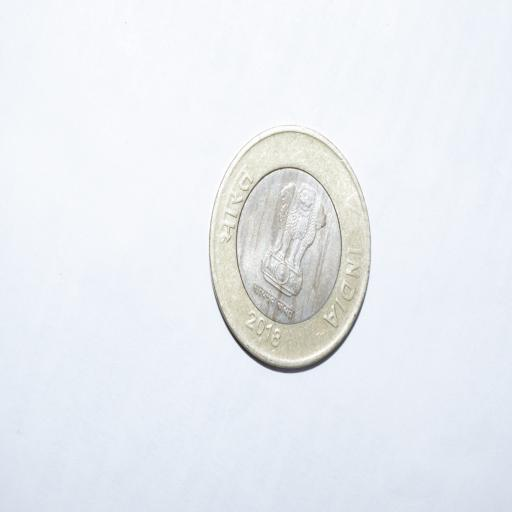rupee10: (205, 120, 373, 370)
